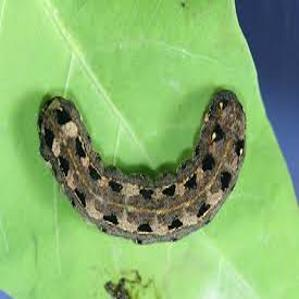Tobacco cutworm: (27, 64, 253, 264)
